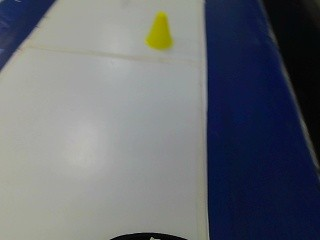cone: (141, 8, 181, 58)
